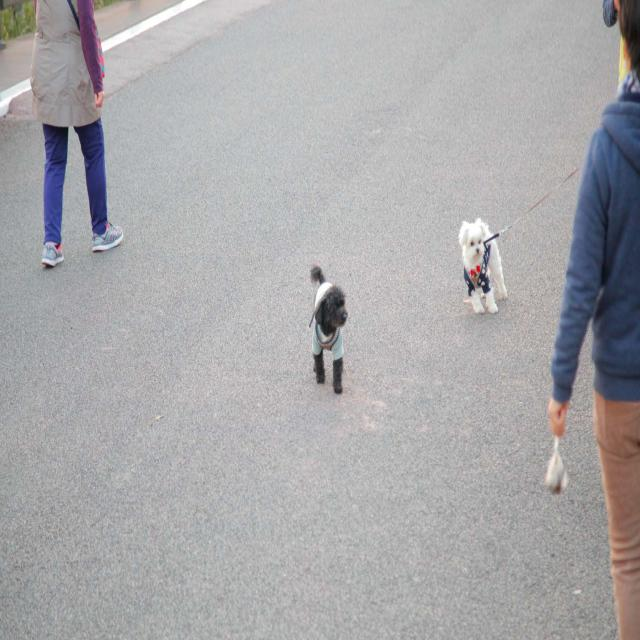Leashed_Dog: (458, 150, 617, 313)
Unleashed_Dog: (87, 147, 347, 395)
